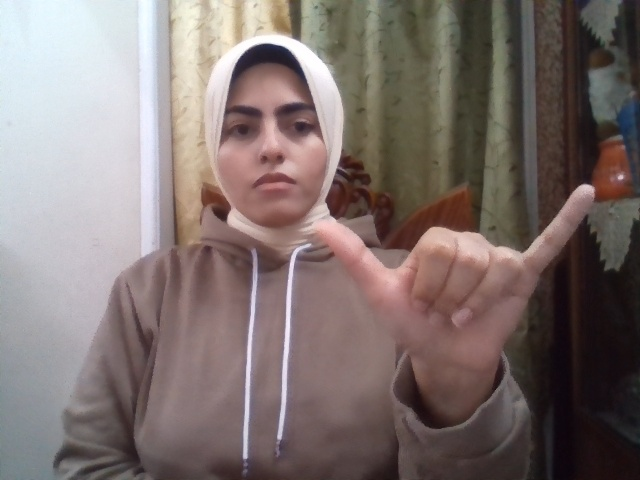Y: (316, 183, 595, 375)
